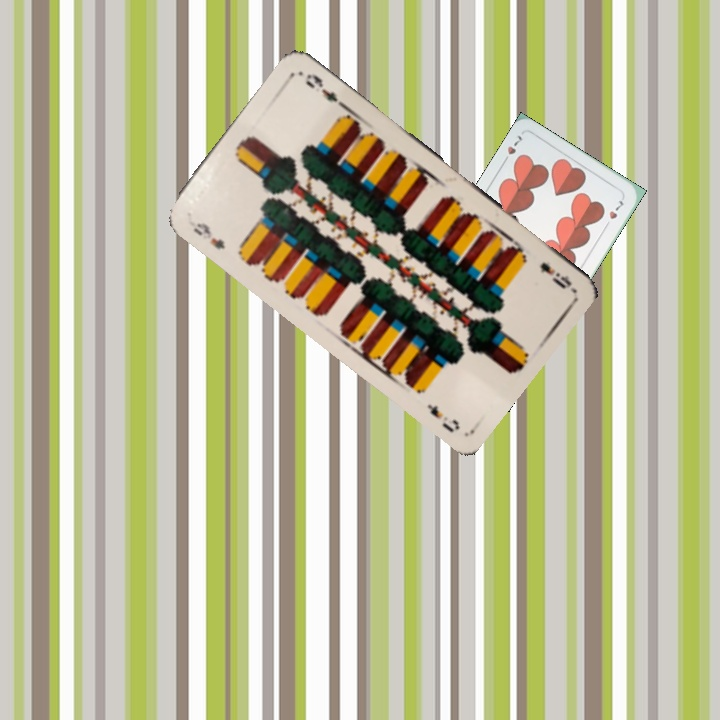E9: (535, 258, 575, 292), (189, 218, 228, 252)
H7: (498, 131, 524, 167)
